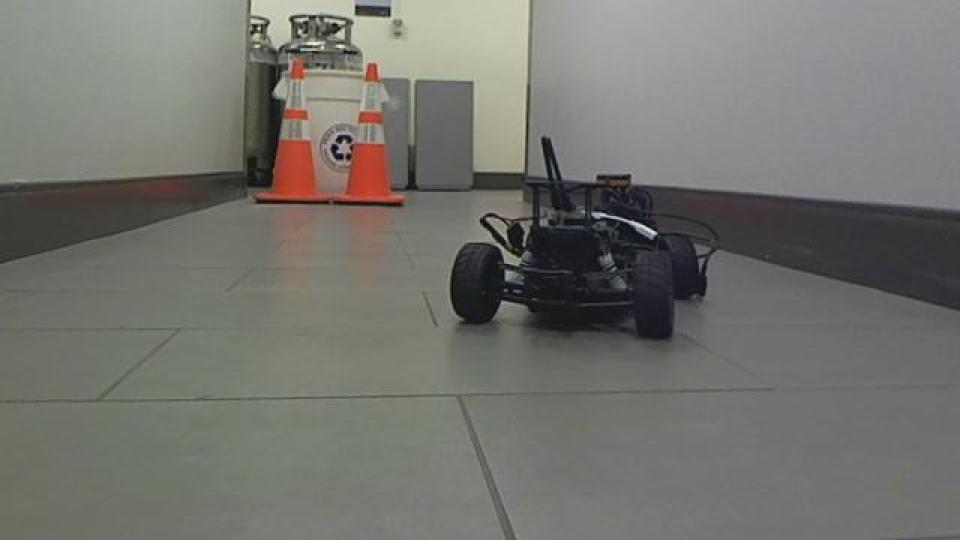car: (446, 134, 721, 342)
